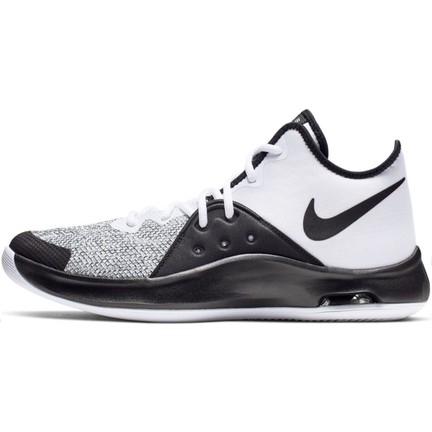nike: (301, 177, 405, 241)
